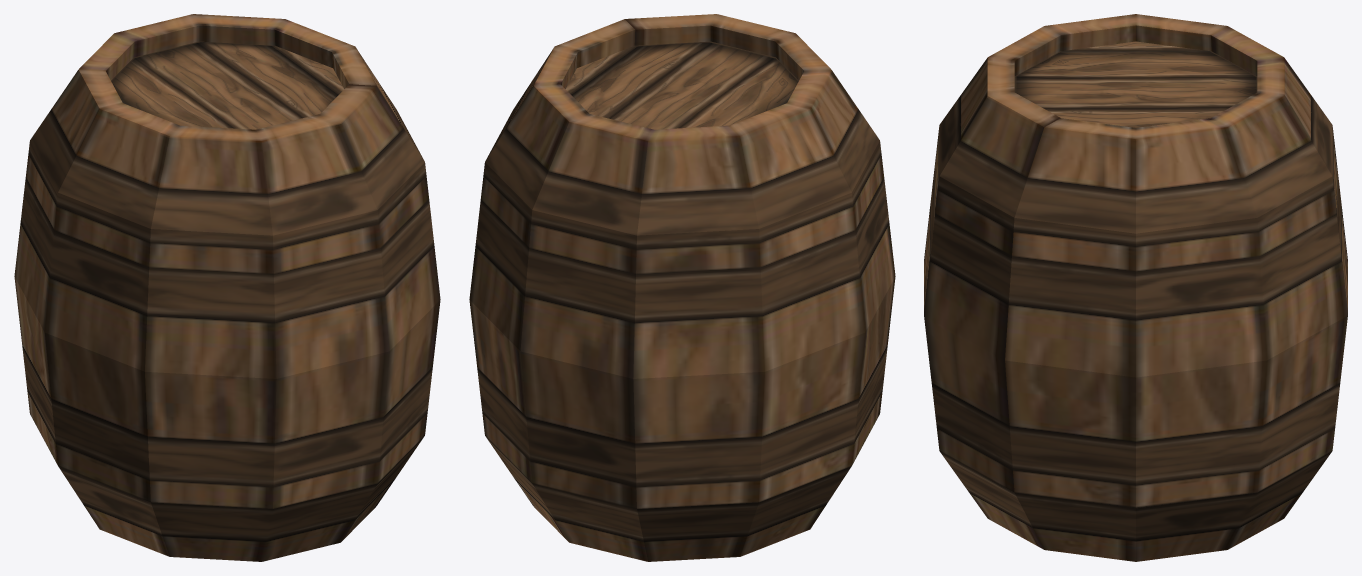
File: Barrel.FBX
The picture shows the model from 3 angles, left to right: view 1: azimuth 30°, elevation 25°; view 2: azimuth 150°, elevation 25°; view 3: azimuth 270°, elevation 25°; orthographic projection.
Parts seen in each view (by area): view 1: Barrel; view 2: Barrel; view 3: Barrel.
Boxes of the visible parts, left/top/right/bottom form: Barrel: left=14, top=14, right=440, bottom=561; Barrel: left=469, top=14, right=895, bottom=561; Barrel: left=924, top=14, right=1347, bottom=561.
Bounding box in the file's own units: 39.37 × 39.37 × 43.31.
